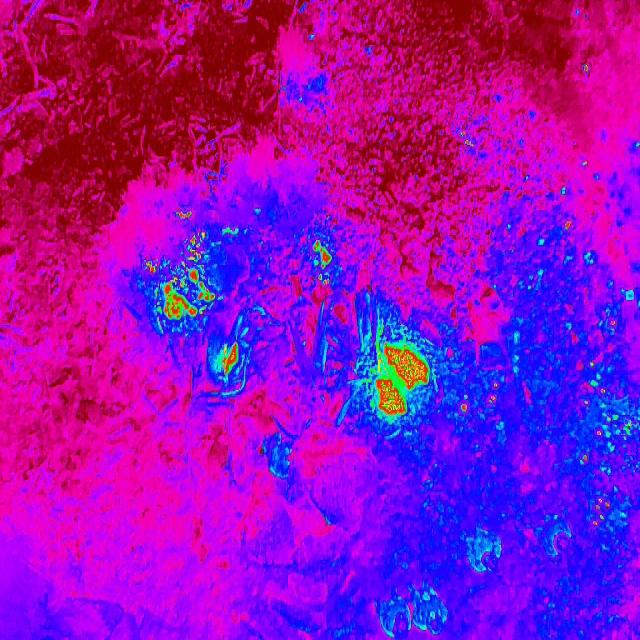fire: (553, 292, 640, 546), (357, 318, 438, 427), (144, 227, 216, 325), (459, 381, 502, 417), (215, 336, 242, 384), (311, 236, 338, 273), (456, 128, 478, 152), (172, 204, 196, 222), (558, 215, 577, 237), (580, 61, 598, 80)
